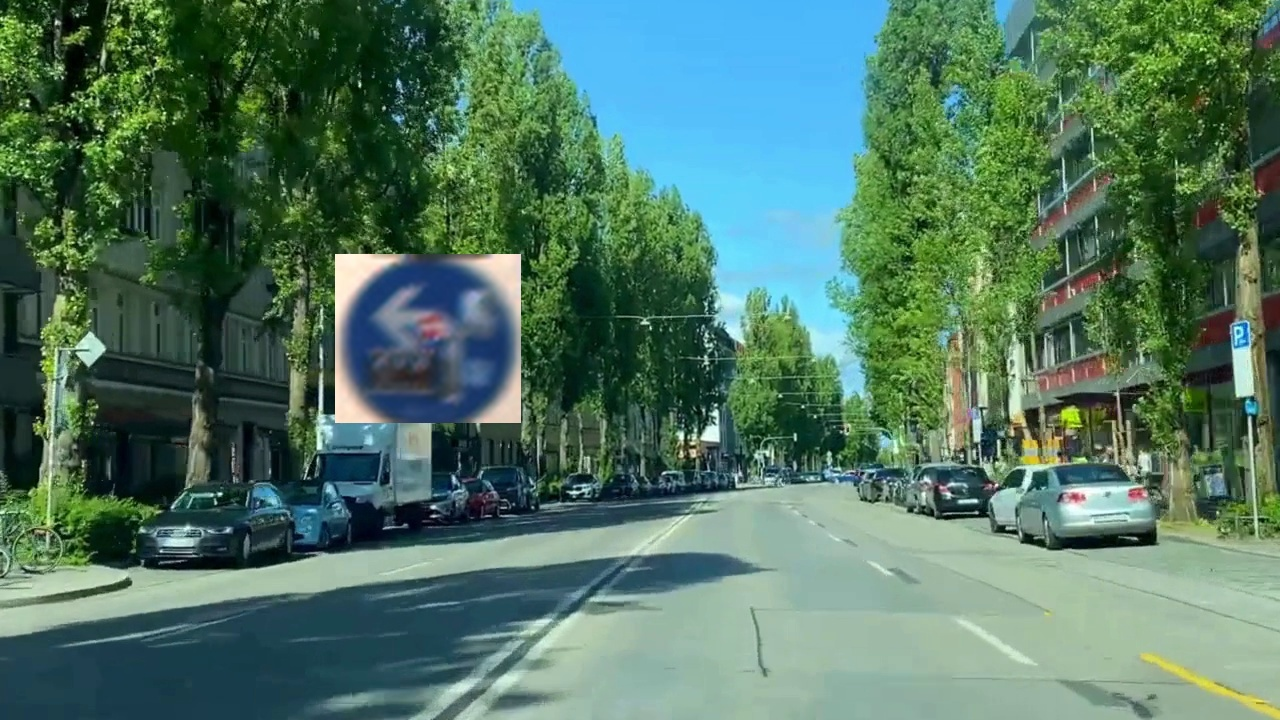Turn left: (335, 254, 521, 423)
